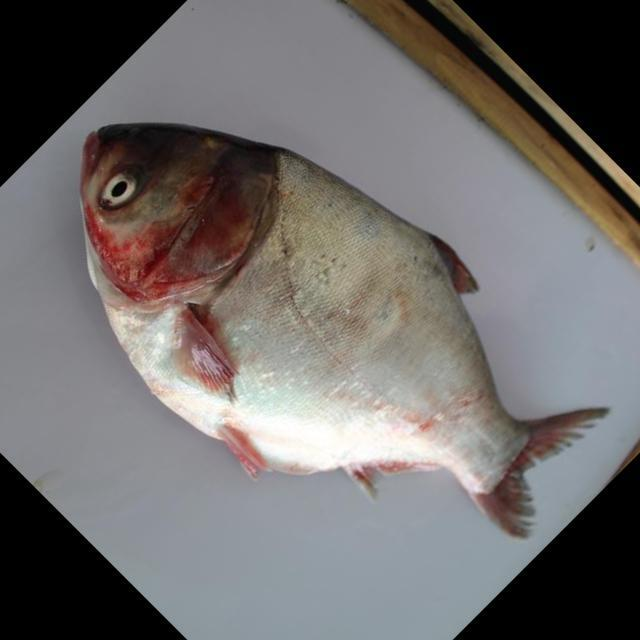SilverCarp: (65, 92, 591, 533)
